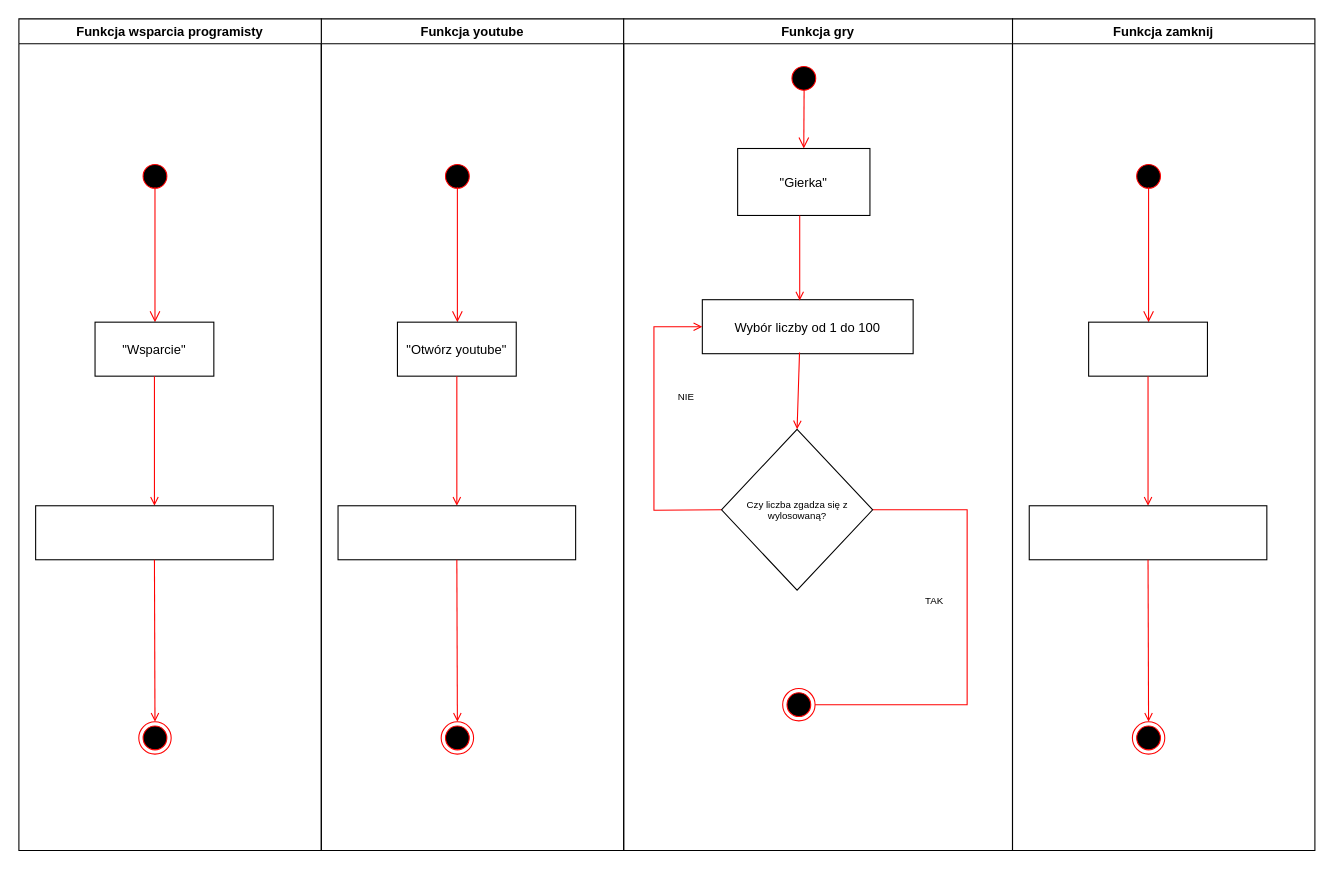
The diagram is 1334 pixels wide and 869 high, and some of its shapes have lost their labels. The centre of each missing label's shape, as x and y in pixels:
"Zamknij": the point at 1147,348
Otwarcie strony głównej youtube: the point at 456,532
Otwarcie strony Stackoverflow: the point at 154,532
Zamknięcie aplikacji: the point at 1147,532
